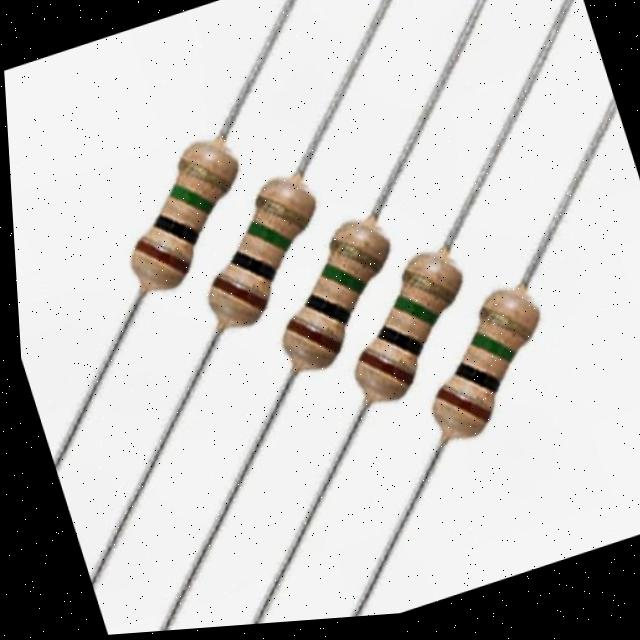Resistor: (378, 233, 589, 515), (302, 198, 505, 488), (234, 168, 426, 429), (84, 99, 271, 334), (179, 137, 355, 378)
